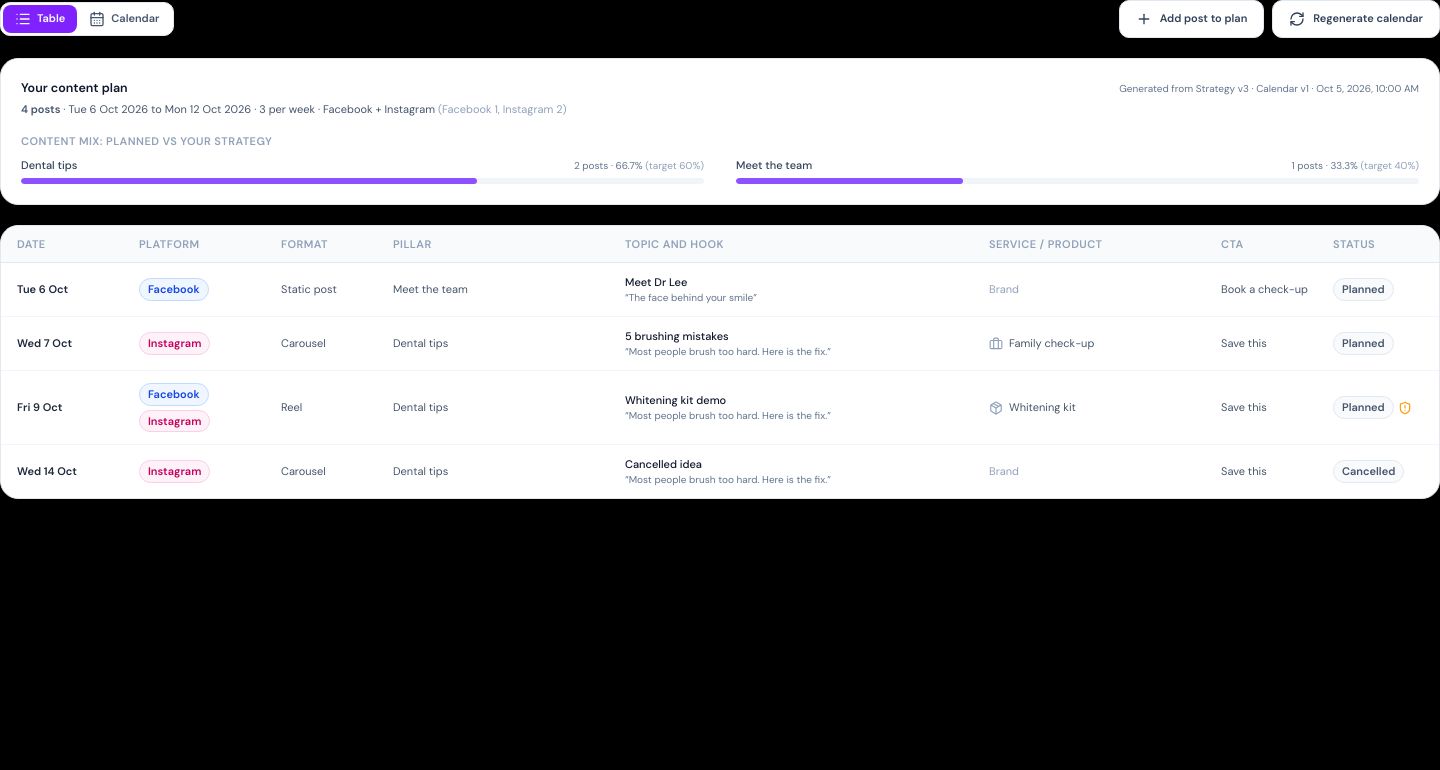
Test case: Content plan — staleness and regeneration › Regenerate opens the form (with the old calendar still showing) and Cancel closes it
Expected: the element with test id "plan-table" is shown, [0,225,1439,499]
Click the button with test id "regenerate-calendar" at (1356, 19), box [1272,0,1439,38]
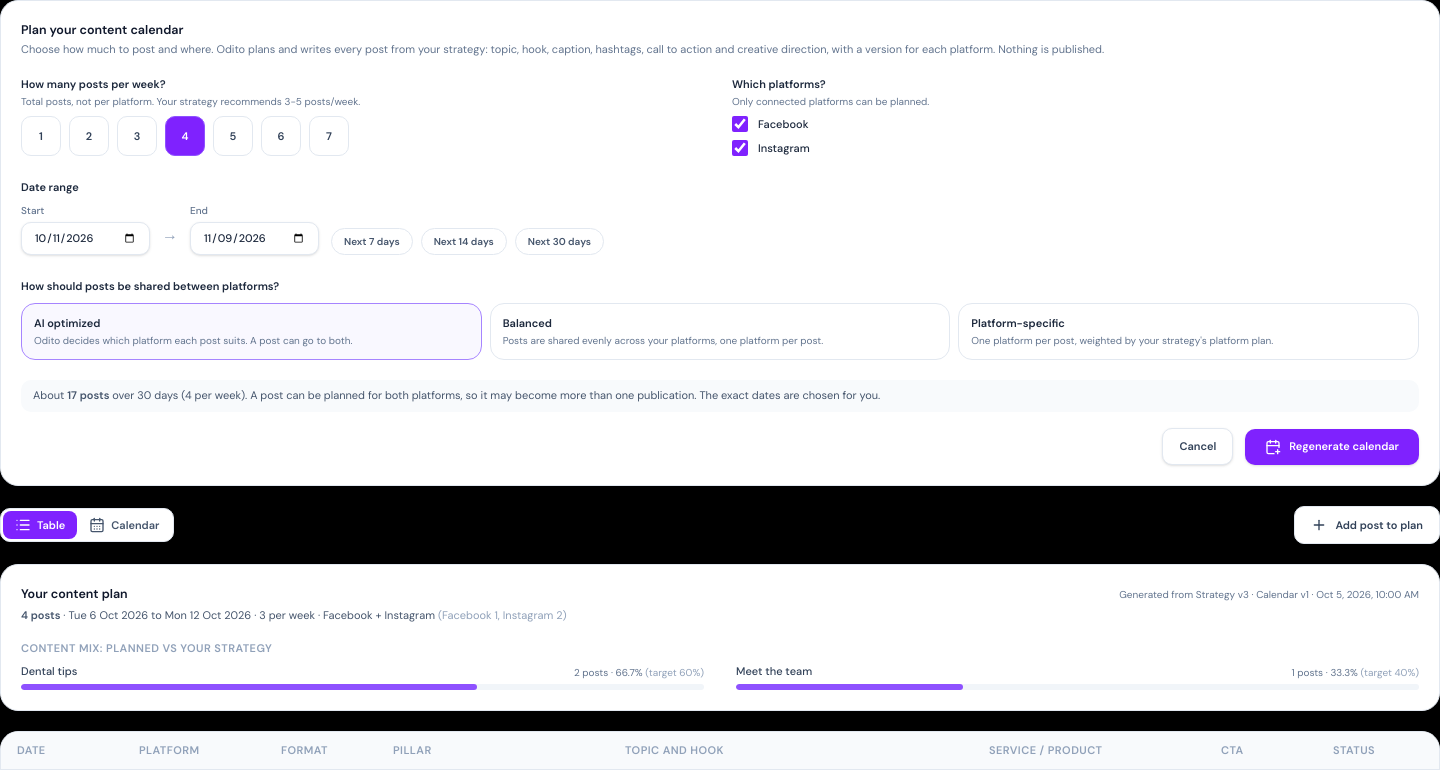
Expected: the button with test id "generate-calendar-button" reads "Regenerate calendar", [1245,428,1419,464]
Click the button "Cancel" at (1198, 447), box [1162,428,1233,465]
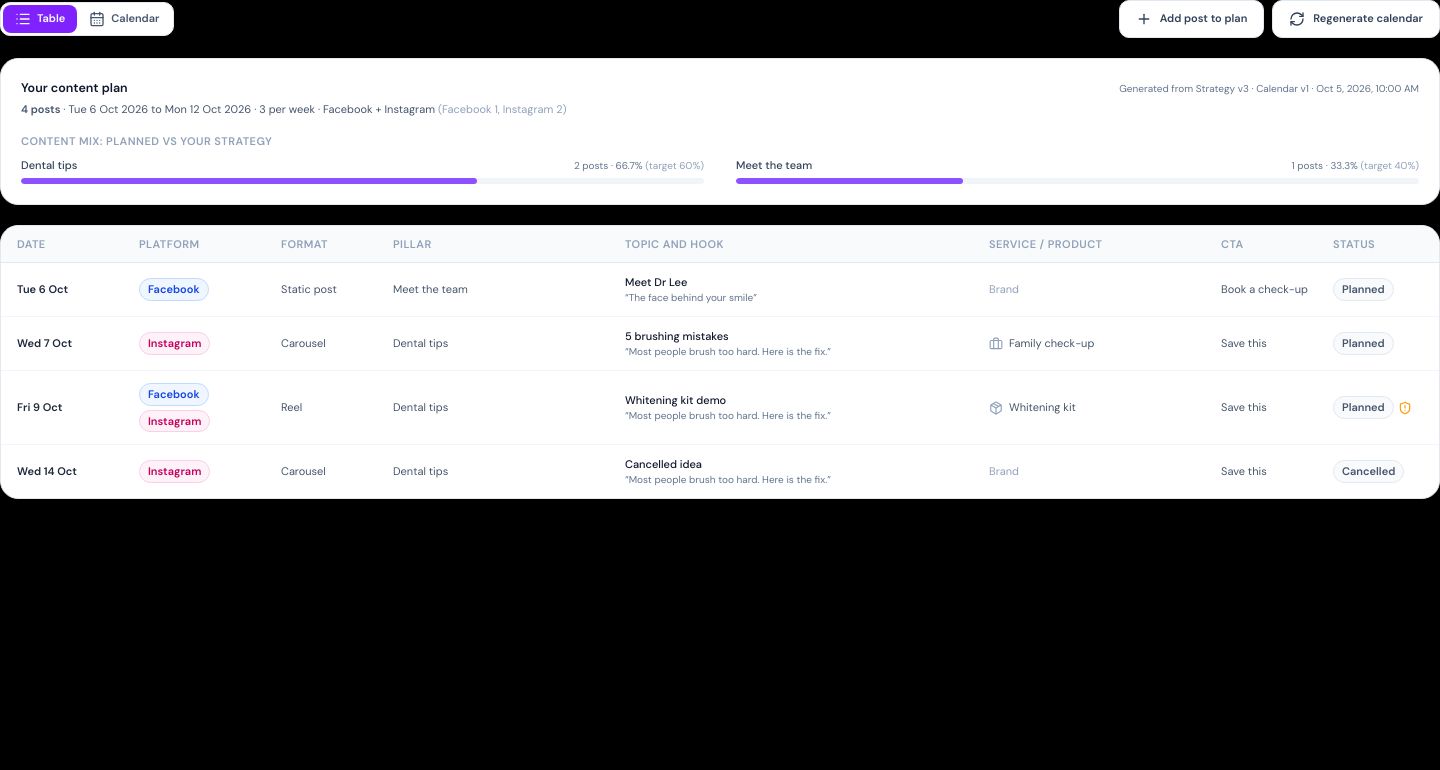
Result: the form with test id "calendar-plan-form" is gone
